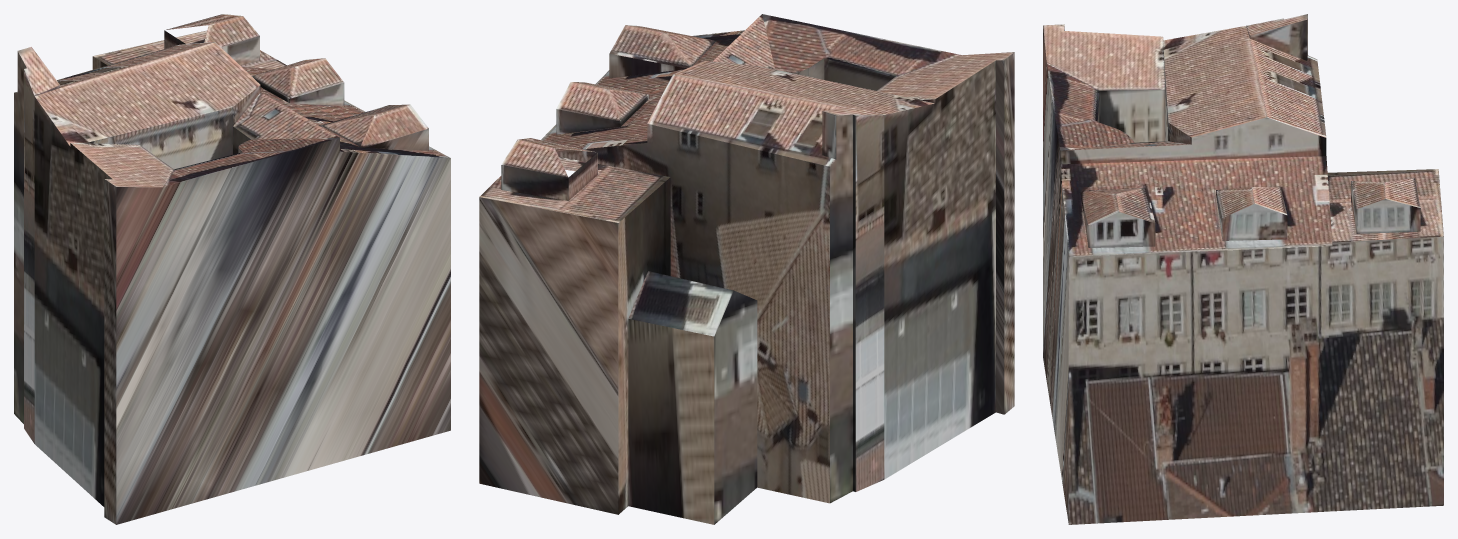
3 renders of one model, left to right at view 1: azimuth 30°, elevation 25°; view 2: azimuth 150°, elevation 25°; view 3: azimuth 270°, elevation 25°, orthographic. The views are drawn at different scales.
Parts seen in each view (by area): view 1: Z_UP; view 2: Z_UP; view 3: Z_UP.
Boxes of the visible parts, left/top/right/bottom form: Z_UP: left=14, top=14, right=450, bottom=524; Z_UP: left=479, top=14, right=1014, bottom=524; Z_UP: left=1043, top=14, right=1443, bottom=524.
Size of the model in its own units: 22.87 by 23.06 by 23.13.
Materials: 2 (1 with a texture image).
